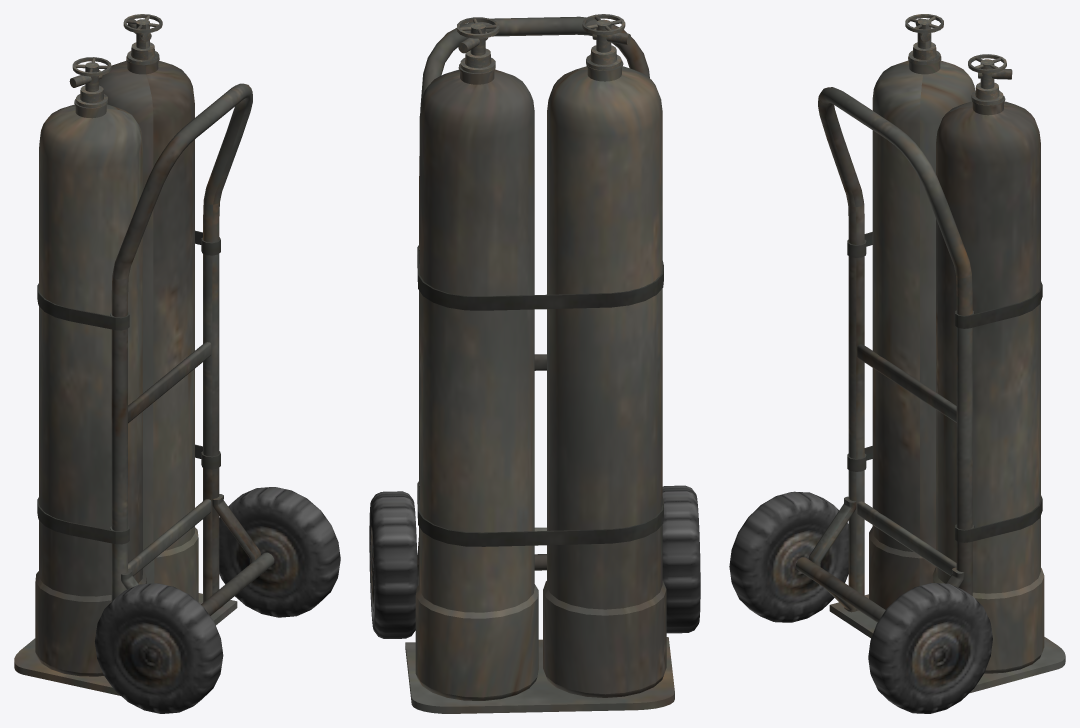
The model's file is prop_medium_005.glb.
3 renders of one model, left to right at view 1: azimuth 30°, elevation 25°; view 2: azimuth 150°, elevation 25°; view 3: azimuth 270°, elevation 25°, orthographic. The views are drawn at different scales.
Parts seen in each view (by area): view 1: Building_12_024; view 2: Building_12_024; view 3: Building_12_024.
Part boxes in pixels (box(x1,y1,x2,y2)): Building_12_024: box(14, 14, 340, 713); Building_12_024: box(369, 14, 700, 713); Building_12_024: box(729, 14, 1065, 713).
Bounding box in the file's own units: 0.628 × 1.2 × 0.6146.
1 material, 1 textured.
